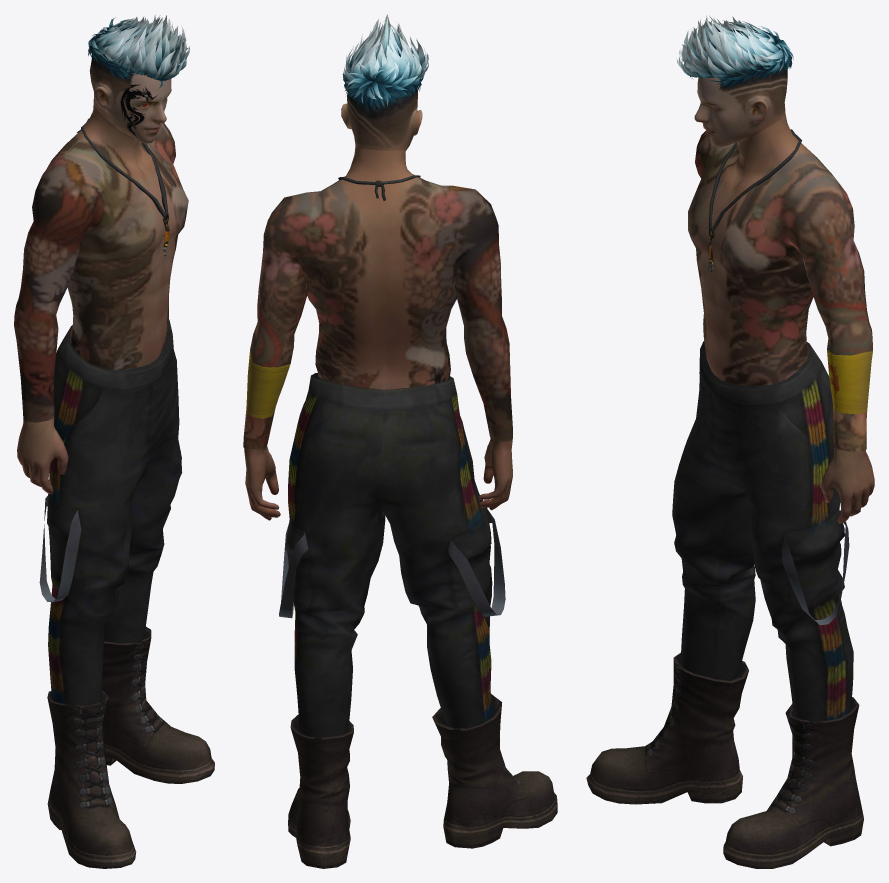
The model's file is free_fire_3d_model (1).glb.
3 views of the same model, side by side, from view 1: azimuth 30°, elevation 25°; view 2: azimuth 150°, elevation 25°; view 3: azimuth 270°, elevation 25° (orthographic). The views are drawn at different scales.
Visible parts, largest first — view 1: Mesh_0015.rip, Mesh_0017.rip, Mesh_0013.rip, Mesh_0029.rip, Mesh_0012.rip; view 2: Mesh_0017.rip, Mesh_0015.rip, Mesh_0013.rip, Mesh_0029.rip, Mesh_0012.rip; view 3: Mesh_0017.rip, Mesh_0015.rip, Mesh_0013.rip, Mesh_0029.rip, Mesh_0012.rip.
Part boxes in pixels (x1,y1,x2,y2): Mesh_0015.rip: (14, 47, 188, 494); Mesh_0017.rip: (39, 319, 182, 705); Mesh_0013.rip: (47, 627, 214, 868); Mesh_0029.rip: (88, 15, 189, 90); Mesh_0012.rip: (77, 118, 169, 256); Mesh_0017.rip: (279, 373, 505, 737); Mesh_0015.rip: (243, 87, 512, 520); Mesh_0013.rip: (288, 694, 557, 868); Mesh_0029.rip: (342, 14, 428, 112); Mesh_0012.rip: (246, 175, 420, 418); Mesh_0017.rip: (672, 341, 853, 721); Mesh_0015.rip: (688, 60, 874, 523); Mesh_0013.rip: (586, 653, 863, 868); Mesh_0029.rip: (676, 15, 793, 89); Mesh_0012.rip: (708, 129, 872, 413).
Bounding box in the file's own units: 2.42 × 9.07 × 2.87.
Materials: 5 (5 with a texture image).
